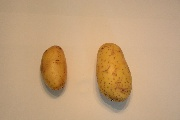potato: (96, 42, 131, 102), (41, 44, 68, 91)
